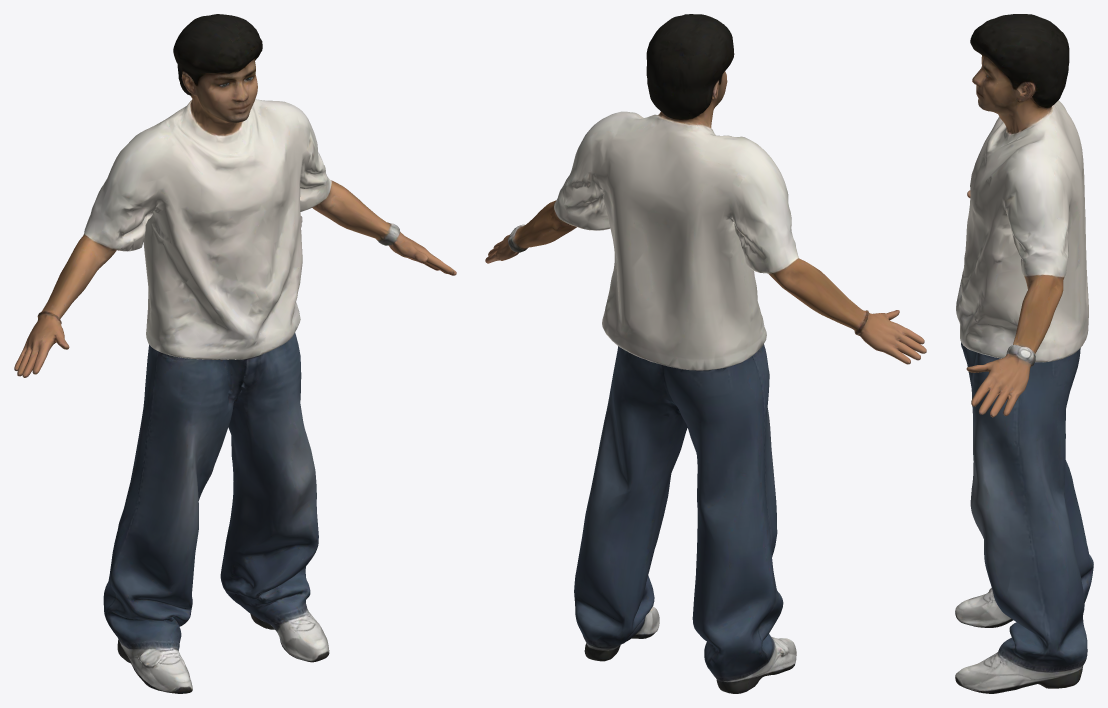
The model's file is npc-teeyouth.glb.
The picture shows the model from 3 angles, left to right: view 1: azimuth 30°, elevation 25°; view 2: azimuth 150°, elevation 25°; view 3: azimuth 270°, elevation 25°; orthographic projection.
Visible parts, largest first — view 1: SK_NPC_TeeYouth; view 2: SK_NPC_TeeYouth; view 3: SK_NPC_TeeYouth.
Boxes of the visible parts, x1,y1,x2,y2 form: SK_NPC_TeeYouth: [14, 14, 456, 693]; SK_NPC_TeeYouth: [485, 14, 926, 693]; SK_NPC_TeeYouth: [955, 14, 1093, 693].
Size of the model in its own units: 135 by 191 by 37.74.
1 material, 1 textured.
